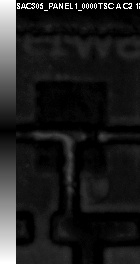led: (36, 81, 108, 174)
